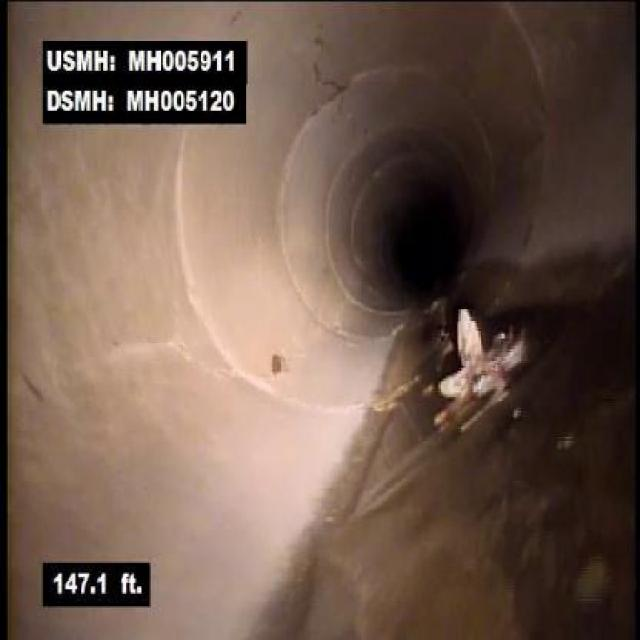Crack: (303, 15, 394, 186), (154, 329, 323, 397)
